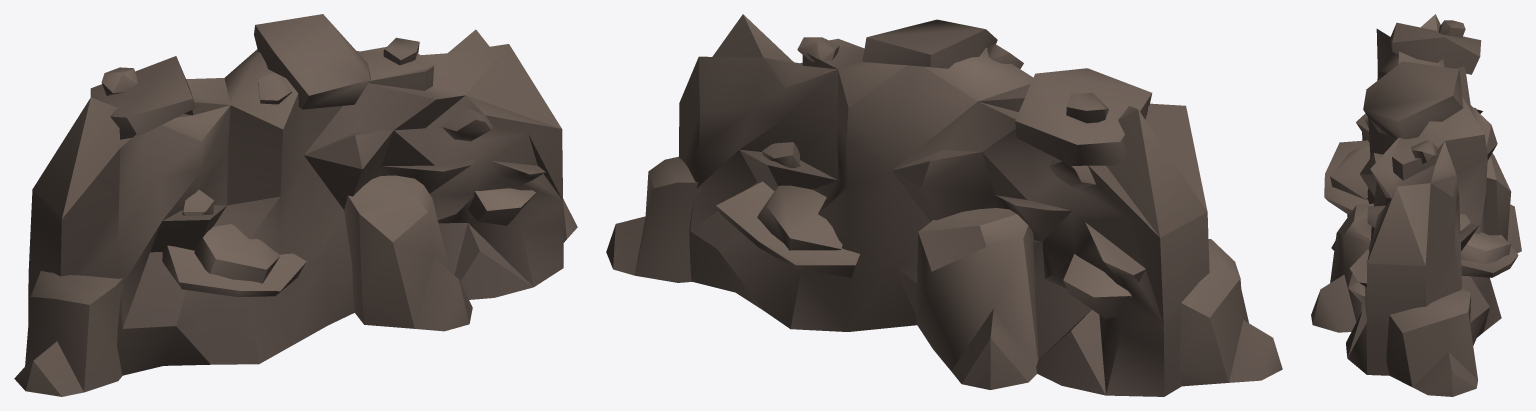
The model's file is rubble_large.gltf.
3 renders of one model, left to right at view 1: azimuth 30°, elevation 25°; view 2: azimuth 150°, elevation 25°; view 3: azimuth 270°, elevation 25°, orthographic. The views are drawn at different scales.
Visible parts, largest first — view 1: rubble_large; view 2: rubble_large; view 3: rubble_large.
Boxes of the visible parts, <box> form: rubble_large: <box>14,14,577,396</box>; rubble_large: <box>606,14,1282,396</box>; rubble_large: <box>1311,14,1521,396</box>.
Bounding box in the file's own units: 8.13 × 3.5 × 3.18.
Materials: 1 (1 with a texture image).
